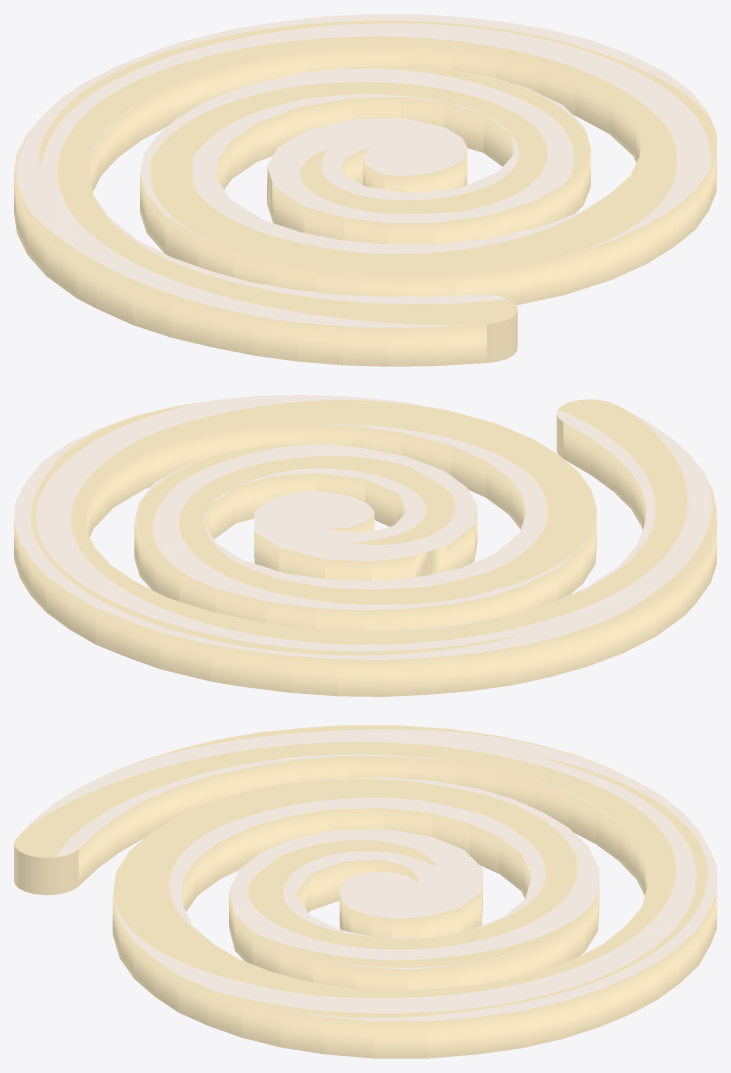
Rendered from Mayo_Slice_Mayo_0.glb.
The picture shows the model from 3 angles, top to bottom: view 1: azimuth 30°, elevation 25°; view 2: azimuth 150°, elevation 25°; view 3: azimuth 270°, elevation 25°; orthographic projection. The views are drawn at different scales.
Parts seen in each view (by area): view 1: Mayo_Slice_Mayo_0; view 2: Mayo_Slice_Mayo_0; view 3: Mayo_Slice_Mayo_0.
Boxes of the visible parts, x1,y1,x2,y2 form: Mayo_Slice_Mayo_0: (14, 14, 716, 366); Mayo_Slice_Mayo_0: (14, 395, 716, 696); Mayo_Slice_Mayo_0: (14, 725, 716, 1058).
Size of the model in its own units: 0.17 by 0.01 by 0.1706.
Materials: 1 (1 with a texture image).
